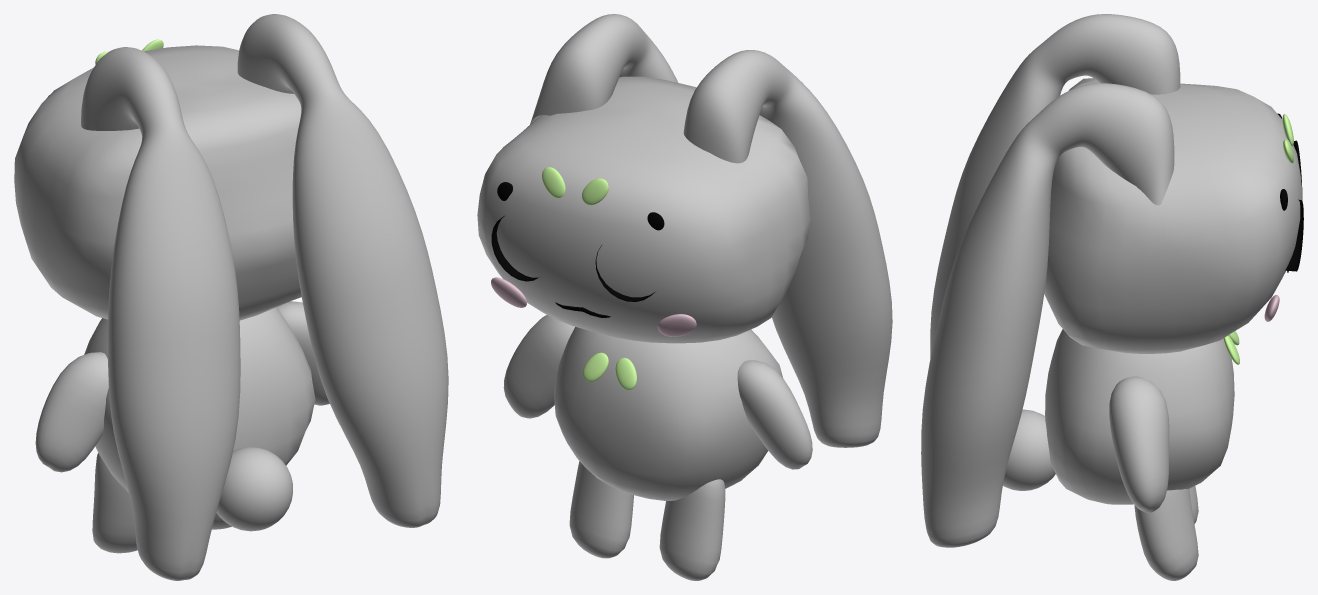
Rendered from Rabbit.fbx.
3 views of the same model, side by side, from view 1: azimuth 30°, elevation 25°; view 2: azimuth 150°, elevation 25°; view 3: azimuth 270°, elevation 25° (orthographic). The views are drawn at different scales.
Visible parts, largest first — view 1: Circle.002, Circle.003, Sphere.005, Sphere.002, Sphere.001, Sphere, Sphere.006, Sphere.003; view 2: Sphere.005, Circle.002, Sphere.002, Circle.003, Sphere.006, Sphere.001, Sphere.003, Sphere.004, Cube.008, Cube.009, Circle, Cube.007 (+3 smaller); view 3: Sphere.005, Circle.003, Sphere.002, Circle.002, Sphere.003, Sphere.004, Sphere, Circle.
Boxes of the visible parts, box(x1,y1,x2,y2) form: Circle.002: box(81, 47, 240, 580); Circle.003: box(237, 14, 448, 527); Sphere.005: box(14, 45, 301, 320); Sphere.002: box(84, 307, 315, 492); Sphere.001: box(35, 352, 108, 472); Sphere: box(216, 447, 292, 531); Sphere.006: box(92, 453, 137, 553); Sphere.003: box(276, 301, 329, 405); Sphere.005: box(477, 76, 810, 343); Circle.002: box(683, 50, 892, 447); Sphere.002: box(554, 327, 782, 500); Circle.003: box(530, 14, 678, 124); Sphere.006: box(659, 479, 725, 580); Sphere.001: box(737, 360, 812, 469); Sphere.003: box(503, 315, 574, 418); Sphere.004: box(569, 461, 633, 558); Cube.008: box(657, 314, 696, 336); Cube.009: box(491, 277, 526, 307); Circle: box(491, 216, 538, 281); Cube.007: box(615, 357, 636, 389); Sphere.005: box(1044, 78, 1301, 353); Circle.003: box(921, 83, 1174, 547); Sphere.002: box(1045, 329, 1234, 504); Circle.002: box(930, 14, 1180, 358); Sphere.003: box(1109, 376, 1169, 512); Sphere.004: box(1134, 489, 1198, 580); Sphere: box(1003, 409, 1055, 490); Circle: box(1285, 199, 1303, 271).
Size of the model in its own units: 44.16 by 68.82 by 46.93.
